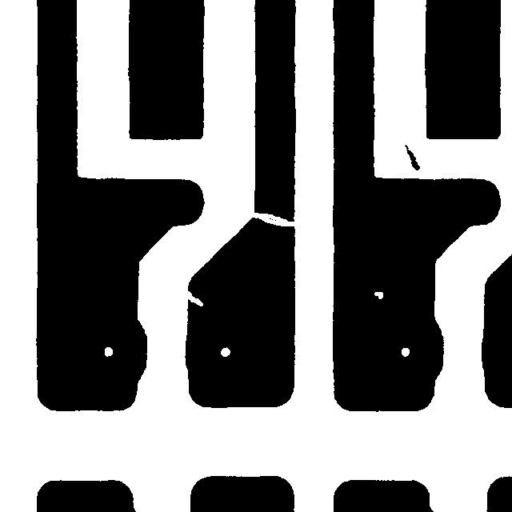copper: (397, 137, 427, 178)
mousebite: (174, 283, 210, 314)
open: (242, 205, 304, 234)
pin-hole: (366, 284, 390, 306)
